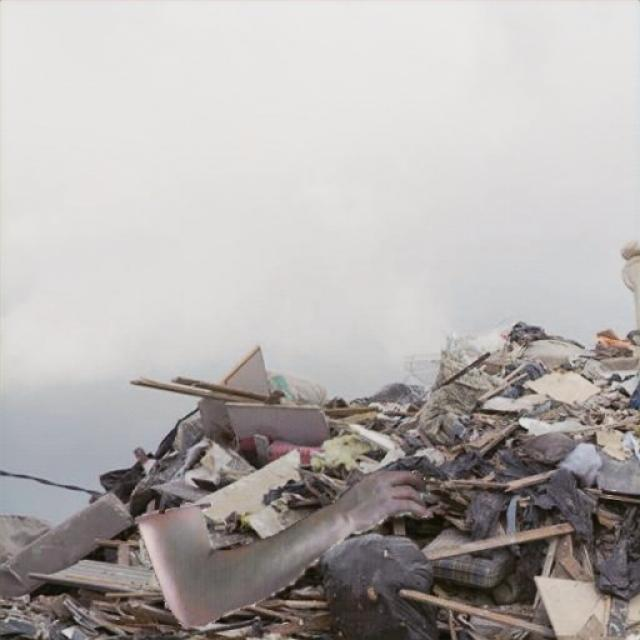Person in Rubble: (135, 471, 434, 625)
